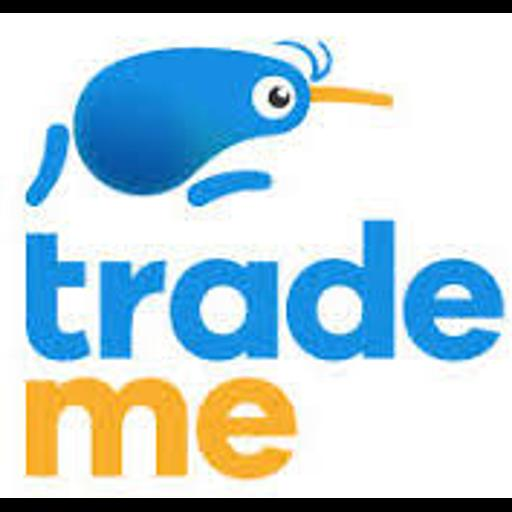Trade Me NZ: (0, 13, 512, 498)
